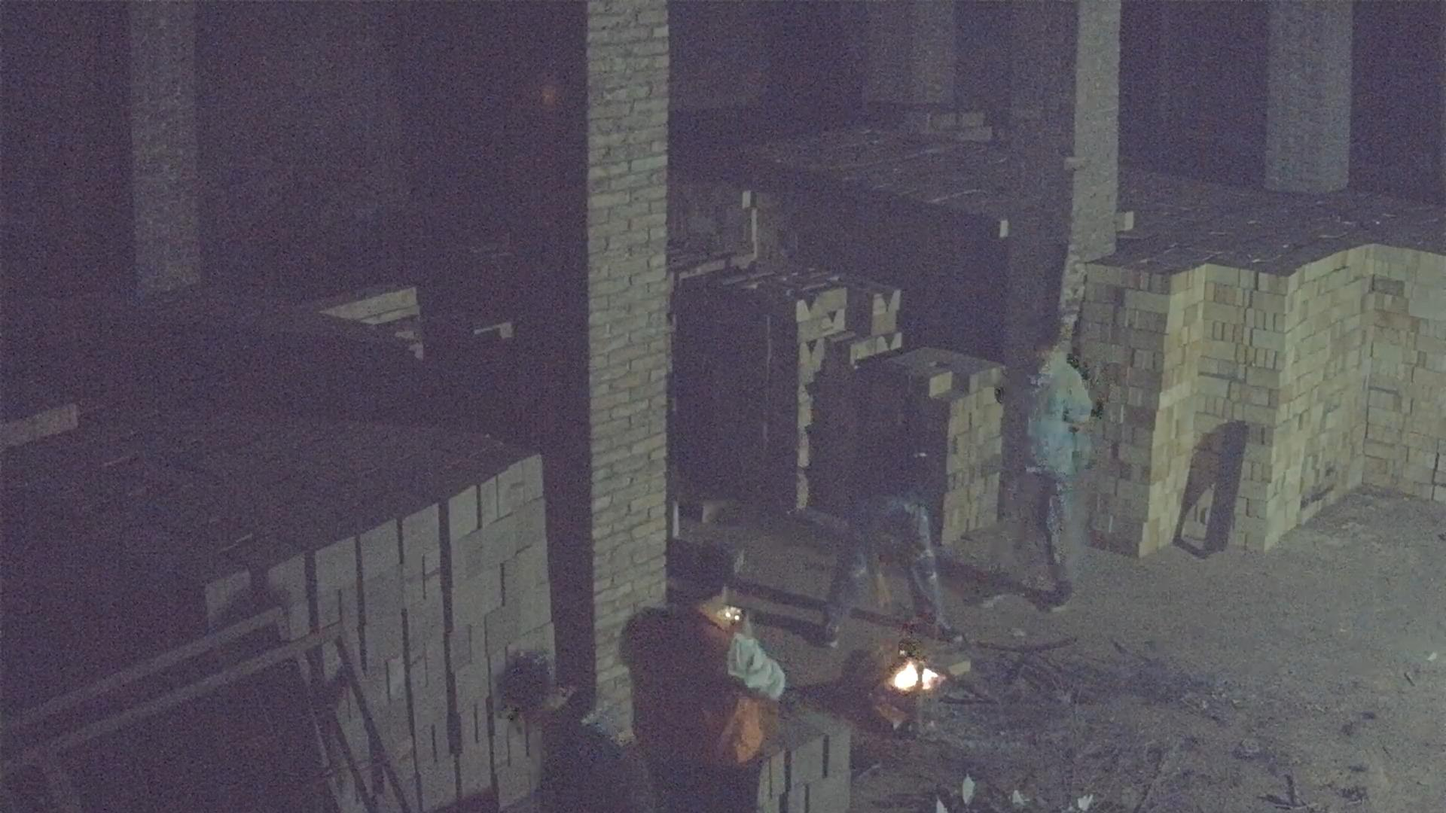fire: (887, 642, 944, 694)
